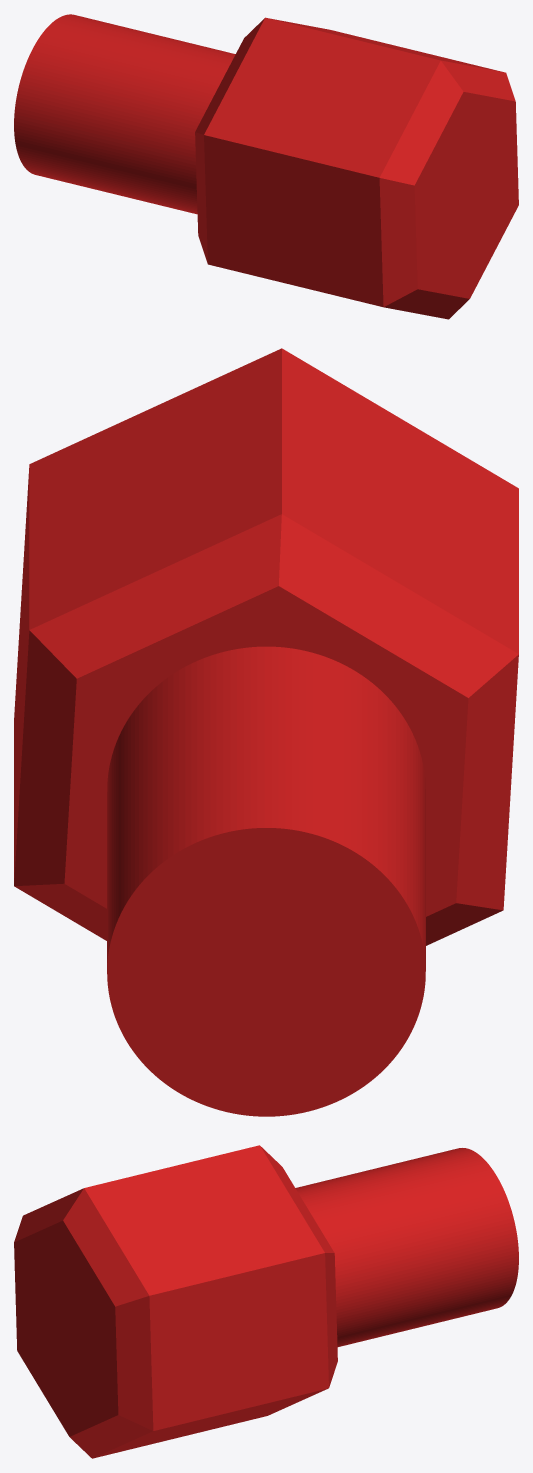
The model's file is 5_colored.obj.
3 renders of one model, top to bottom at view 1: azimuth 30°, elevation 25°; view 2: azimuth 150°, elevation 25°; view 3: azimuth 270°, elevation 25°, orthographic. The views are drawn at different scales.
Size of the model in its own units: 0.0323 by 0.0231 by 0.0398.
